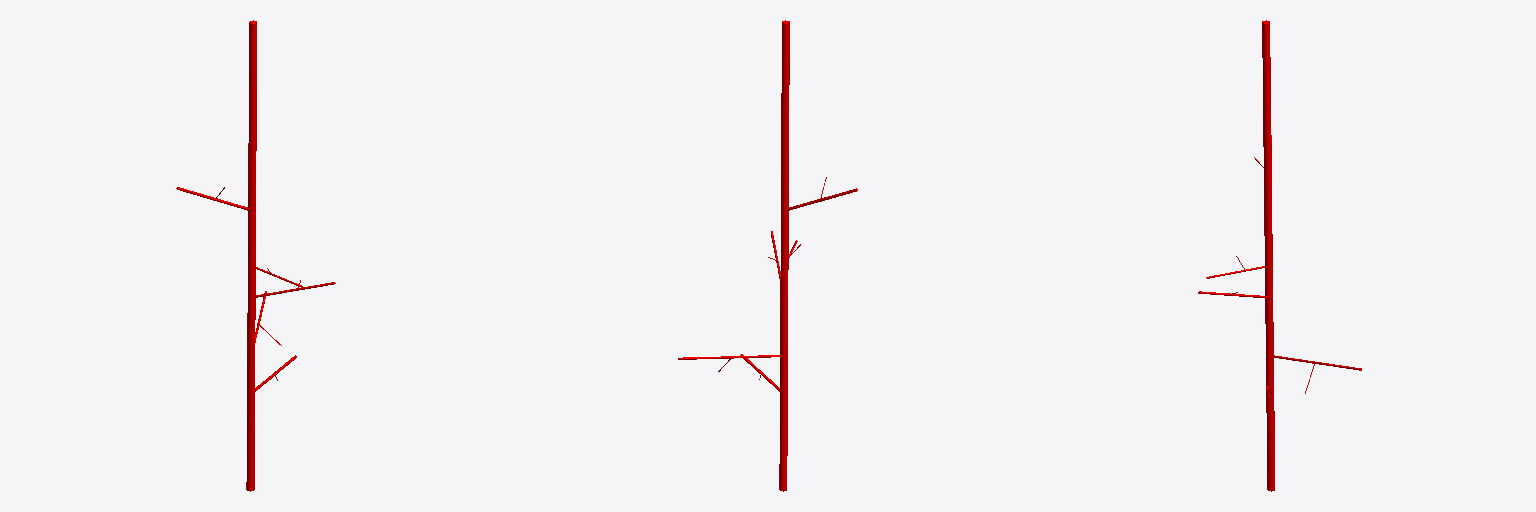
robot.urdf — tree_124.urdf:
<?xml version='1.0' encoding='UTF-8'?>
<robot name="tree_124.urdf">
  <link name="branch_0">
    <inertial>
      <origin xyz="0.0 0.0 0.0" rpy="0.0 -0.0 0.0"/>
      <mass value="0.1"/>
      <inertia ixx="0.001" ixy="0.0" ixz="0.0" iyy="0.001" iyz="0.0" izz="0.001"/>
    </inertial>
    <visual name="branch_0_visual">
      <geometry>
        <cylinder radius="0.09119213156073808" length="11.735004208542467"/>
      </geometry>
      <material name="semantic_material"/>
      <origin xyz="0.0014199567580634616 -0.06005349959232006 5.867194602579403" rpy="2.710505431213761e-20 0.010237974000216397 -1.5471558689779352"/>
    </visual>
    <collision name="branch_0_collision">
      <geometry>
        <cylinder radius="0.09119213156073808" length="11.735004208542467"/>
      </geometry>
      <origin xyz="0.0014199567580634616 -0.06005349959232006 5.867194602579403" rpy="2.710505431213761e-20 0.010237974000216397 -1.5471558689779352"/>
    </collision>
  </link>
  <link name="branch_1">
    <inertial>
      <origin xyz="0.0 0.0 0.0" rpy="0.0 -0.0 0.0"/>
      <mass value="0.1"/>
      <inertia ixx="0.001" ixy="0.0" ixz="0.0" iyy="0.001" iyz="0.0" izz="0.001"/>
    </inertial>
    <visual name="branch_1_visual">
      <geometry>
        <cylinder radius="0.034846477102969085" length="2.164464961036913"/>
      </geometry>
      <material name="semantic_material"/>
      <origin xyz="0.0 0.0 0.0" rpy="0.0 -0.0 0.0"/>
    </visual>
    <collision name="branch_1_collision">
      <geometry>
        <cylinder radius="0.034846477102969085" length="2.164464961036913"/>
      </geometry>
      <origin xyz="0.0 0.0 0.0" rpy="0.0 -0.0 0.0"/>
    </collision>
  </link>
  <link name="branch_2">
    <inertial>
      <origin xyz="0.0 0.0 0.0" rpy="0.0 -0.0 0.0"/>
      <mass value="0.1"/>
      <inertia ixx="0.001" ixy="0.0" ixz="0.0" iyy="0.001" iyz="0.0" izz="0.001"/>
    </inertial>
    <visual name="branch_2_visual">
      <geometry>
        <cylinder radius="0.01" length="0.565603131673051"/>
      </geometry>
      <material name="semantic_material"/>
      <origin xyz="0.0 0.0 0.0" rpy="0.0 -0.0 0.0"/>
    </visual>
    <collision name="branch_2_collision">
      <geometry>
        <cylinder radius="0.01" length="0.565603131673051"/>
      </geometry>
      <origin xyz="0.0 0.0 0.0" rpy="0.0 -0.0 0.0"/>
    </collision>
  </link>
  <link name="branch_3">
    <inertial>
      <origin xyz="0.0 0.0 0.0" rpy="0.0 -0.0 0.0"/>
      <mass value="0.1"/>
      <inertia ixx="0.001" ixy="0.0" ixz="0.0" iyy="0.001" iyz="0.0" izz="0.001"/>
    </inertial>
    <visual name="branch_3_visual">
      <geometry>
        <cylinder radius="0.027088592844515688" length="2.6411618718319936"/>
      </geometry>
      <material name="semantic_material"/>
      <origin xyz="0.0 0.0 0.0" rpy="0.0 -0.0 0.0"/>
    </visual>
    <collision name="branch_3_collision">
      <geometry>
        <cylinder radius="0.027088592844515688" length="2.6411618718319936"/>
      </geometry>
      <origin xyz="0.0 0.0 0.0" rpy="0.0 -0.0 0.0"/>
    </collision>
  </link>
  <link name="branch_4">
    <inertial>
      <origin xyz="0.0 0.0 0.0" rpy="0.0 -0.0 0.0"/>
      <mass value="0.1"/>
      <inertia ixx="0.001" ixy="0.0" ixz="0.0" iyy="0.001" iyz="0.0" izz="0.001"/>
    </inertial>
    <visual name="branch_4_visual">
      <geometry>
        <cylinder radius="0.010279988319203135" length="0.7635673829008125"/>
      </geometry>
      <material name="semantic_material"/>
      <origin xyz="0.0 0.0 0.0" rpy="0.0 -0.0 0.0"/>
    </visual>
    <collision name="branch_4_collision">
      <geometry>
        <cylinder radius="0.010279988319203135" length="0.7635673829008125"/>
      </geometry>
      <origin xyz="0.0 0.0 0.0" rpy="0.0 -0.0 0.0"/>
    </collision>
  </link>
  <link name="branch_5">
    <inertial>
      <origin xyz="0.0 0.0 0.0" rpy="0.0 -0.0 0.0"/>
      <mass value="0.1"/>
      <inertia ixx="0.001" ixy="0.0" ixz="0.0" iyy="0.001" iyz="0.0" izz="0.001"/>
    </inertial>
    <visual name="branch_5_visual">
      <geometry>
        <cylinder radius="0.03476397262256693" length="1.3429678582969413"/>
      </geometry>
      <material name="semantic_material"/>
      <origin xyz="0.0 0.0 0.0" rpy="0.0 -0.0 0.0"/>
    </visual>
    <collision name="branch_5_collision">
      <geometry>
        <cylinder radius="0.03476397262256693" length="1.3429678582969413"/>
      </geometry>
      <origin xyz="0.0 0.0 0.0" rpy="0.0 -0.0 0.0"/>
    </collision>
  </link>
  <link name="branch_6">
    <inertial>
      <origin xyz="0.0 0.0 0.0" rpy="0.0 -0.0 0.0"/>
      <mass value="0.1"/>
      <inertia ixx="0.001" ixy="0.0" ixz="0.0" iyy="0.001" iyz="0.0" izz="0.001"/>
    </inertial>
    <visual name="branch_6_visual">
      <geometry>
        <cylinder radius="0.01" length="0.19492135554443238"/>
      </geometry>
      <material name="semantic_material"/>
      <origin xyz="0.0 0.0 0.0" rpy="0.0 -0.0 0.0"/>
    </visual>
    <collision name="branch_6_collision">
      <geometry>
        <cylinder radius="0.01" length="0.19492135554443238"/>
      </geometry>
      <origin xyz="0.0 0.0 0.0" rpy="0.0 -0.0 0.0"/>
    </collision>
  </link>
  <link name="branch_7">
    <inertial>
      <origin xyz="0.0 0.0 0.0" rpy="0.0 -0.0 0.0"/>
      <mass value="0.1"/>
      <inertia ixx="0.001" ixy="0.0" ixz="0.0" iyy="0.001" iyz="0.0" izz="0.001"/>
    </inertial>
    <visual name="branch_7_visual">
      <geometry>
        <cylinder radius="0.023593391856149656" length="1.5001976204082879"/>
      </geometry>
      <material name="semantic_material"/>
      <origin xyz="0.0 0.0 0.0" rpy="0.0 -0.0 0.0"/>
    </visual>
    <collision name="branch_7_collision">
      <geometry>
        <cylinder radius="0.023593391856149656" length="1.5001976204082879"/>
      </geometry>
      <origin xyz="0.0 0.0 0.0" rpy="0.0 -0.0 0.0"/>
    </collision>
  </link>
  <link name="branch_8">
    <inertial>
      <origin xyz="0.0 0.0 0.0" rpy="0.0 -0.0 0.0"/>
      <mass value="0.1"/>
      <inertia ixx="0.001" ixy="0.0" ixz="0.0" iyy="0.001" iyz="0.0" izz="0.001"/>
    </inertial>
    <visual name="branch_8_visual">
      <geometry>
        <cylinder radius="0.01" length="0.38581476443854645"/>
      </geometry>
      <material name="semantic_material"/>
      <origin xyz="0.0 0.0 0.0" rpy="0.0 -0.0 0.0"/>
    </visual>
    <collision name="branch_8_collision">
      <geometry>
        <cylinder radius="0.01" length="0.38581476443854645"/>
      </geometry>
      <origin xyz="0.0 0.0 0.0" rpy="0.0 -0.0 0.0"/>
    </collision>
  </link>
  <link name="branch_9">
    <inertial>
      <origin xyz="0.0 0.0 0.0" rpy="0.0 -0.0 0.0"/>
      <mass value="0.1"/>
      <inertia ixx="0.001" ixy="0.0" ixz="0.0" iyy="0.001" iyz="0.0" izz="0.001"/>
    </inertial>
    <visual name="branch_9_visual">
      <geometry>
        <cylinder radius="0.028130160856252143" length="2.1530771788911043"/>
      </geometry>
      <material name="semantic_material"/>
      <origin xyz="0.0 0.0 0.0" rpy="0.0 -0.0 0.0"/>
    </visual>
    <collision name="branch_9_collision">
      <geometry>
        <cylinder radius="0.028130160856252143" length="2.1530771788911043"/>
      </geometry>
      <origin xyz="0.0 0.0 0.0" rpy="0.0 -0.0 0.0"/>
    </collision>
  </link>
  <link name="branch_10">
    <inertial>
      <origin xyz="0.0 0.0 0.0" rpy="0.0 -0.0 0.0"/>
      <mass value="0.1"/>
      <inertia ixx="0.001" ixy="0.0" ixz="0.0" iyy="0.001" iyz="0.0" izz="0.001"/>
    </inertial>
    <visual name="branch_10_visual">
      <geometry>
        <cylinder radius="0.01" length="0.26418197325460985"/>
      </geometry>
      <material name="semantic_material"/>
      <origin xyz="0.0 0.0 0.0" rpy="0.0 -0.0 0.0"/>
    </visual>
    <collision name="branch_10_collision">
      <geometry>
        <cylinder radius="0.01" length="0.26418197325460985"/>
      </geometry>
      <origin xyz="0.0 0.0 0.0" rpy="0.0 -0.0 0.0"/>
    </collision>
  </link>
  <joint name="joint_0_1" type="fixed">
    <parent link="branch_0"/>
    <child link="branch_1"/>
    <axis xyz="1. 0. 0."/>
    <origin xyz="-0.9622906552736118 -0.04886102104923132 7.50484619093986" rpy="-0.022514254809714446 1.099396497548688 3.0925460284787483"/>
  </joint>
  <joint name="joint_0_3" type="fixed">
    <parent link="branch_0"/>
    <child link="branch_3"/>
    <axis xyz="1. 0. 0."/>
    <origin xyz="0.7927143934002742 1.0035801605840986 3.5578106679777415" rpy="0.04247476121619806 1.4196643689103918 0.9620300027524382"/>
  </joint>
  <joint name="joint_0_5" type="fixed">
    <parent link="branch_0"/>
    <child link="branch_5"/>
    <axis xyz="1. 0. 0."/>
    <origin xyz="0.5773283062377441 -0.05156824134099573 2.756907825622891" rpy="0.020008128627863286 1.034838488403427 -0.02326641313105697"/>
  </joint>
  <joint name="joint_0_7" type="fixed">
    <parent link="branch_0"/>
    <child link="branch_7"/>
    <axis xyz="1. 0. 0."/>
    <origin xyz="0.25141879267432554 -0.7639148528346925 5.580348313762258" rpy="3.0667869986986624 1.528155889690163 1.8361187296214214"/>
  </joint>
  <joint name="joint_0_9" type="fixed">
    <parent link="branch_0"/>
    <child link="branch_9"/>
    <axis xyz="1. 0. 0."/>
    <origin xyz="0.6298116676938165 -0.8484731788451914 5.183017847506506" rpy="0.018722161152412622 1.235732916465021 -0.8843672511824601"/>
  </joint>
  <joint name="joint_1_2" type="fixed">
    <parent link="branch_0"/>
    <child link="branch_2"/>
    <axis xyz="1. 0. 0."/>
    <origin xyz="-0.9255927081090638 -0.22779043936799034 7.7154702850191805" rpy="0.6463767687849563 0.2594263830799237 -0.20604444970343136"/>
  </joint>
  <joint name="joint_3_4" type="fixed">
    <parent link="branch_0"/>
    <child link="branch_4"/>
    <axis xyz="1. 0. 0."/>
    <origin xyz="1.0186104418437445 0.8803259232152739 3.2760562692994775" rpy="-2.4082006456420726 0.17619174675645408 -2.19960341834403"/>
  </joint>
  <joint name="joint_5_6" type="fixed">
    <parent link="branch_0"/>
    <child link="branch_6"/>
    <axis xyz="1. 0. 0."/>
    <origin xyz="0.6389852216374096 -0.06767595585348878 2.6839599219918093" rpy="-3.0151561601872996 0.3352311499427044 3.0655753227979647"/>
  </joint>
  <joint name="joint_7_8" type="fixed">
    <parent link="branch_0"/>
    <child link="branch_8"/>
    <axis xyz="1. 0. 0."/>
    <origin xyz="0.09300503550501307 -0.6891903066835695 5.7230906149334855" rpy="-0.7642150019918265 -0.24893687140048754 2.1044187368019145"/>
  </joint>
  <joint name="joint_9_10" type="fixed">
    <parent link="branch_0"/>
    <child link="branch_10"/>
    <axis xyz="1. 0. 0."/>
    <origin xyz="0.7851497706205753 -0.859836634965015 5.2879721687413515" rpy="1.0459466217800841 0.31254485008340516 2.195866093534456"/>
  </joint>
  <material name="semantic_material">
    <color rgba="1. 0. 0. 1."/>
  </material>
</robot>

--- What the picture shows (computed from the rendered views, not written in the file) ---
The picture shows the robot from 3 angles, left to right: view 1: azimuth 30°, elevation 25°; view 2: azimuth 150°, elevation 25°; view 3: azimuth 270°, elevation 25°; orthographic projection.
Model tree_124.urdf with 11 links and 10 joints (10 fixed), rooted at branch_0, posed every joint at zero.
Visible links, largest first — view 1: branch_0; view 2: branch_0; view 3: branch_0.
Link boxes in pixels (bbox=[...]): branch_0: bbox=[246, 20, 256, 491]; branch_0: bbox=[779, 20, 789, 491]; branch_0: bbox=[1262, 20, 1274, 491].
Size in the robot's own frame: 3.55 by 3.72 by 11.74 metres.
Geometry: primitives only (box / cylinder / sphere), no mesh files.
